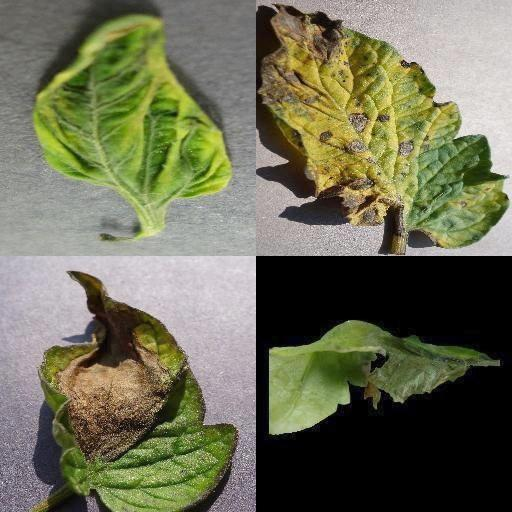Early Blight: (261, 4, 509, 250)
Late Blight: (35, 269, 236, 512), (270, 318, 500, 438)
Yellow Leaf Curl Virus: (32, 13, 230, 201)
